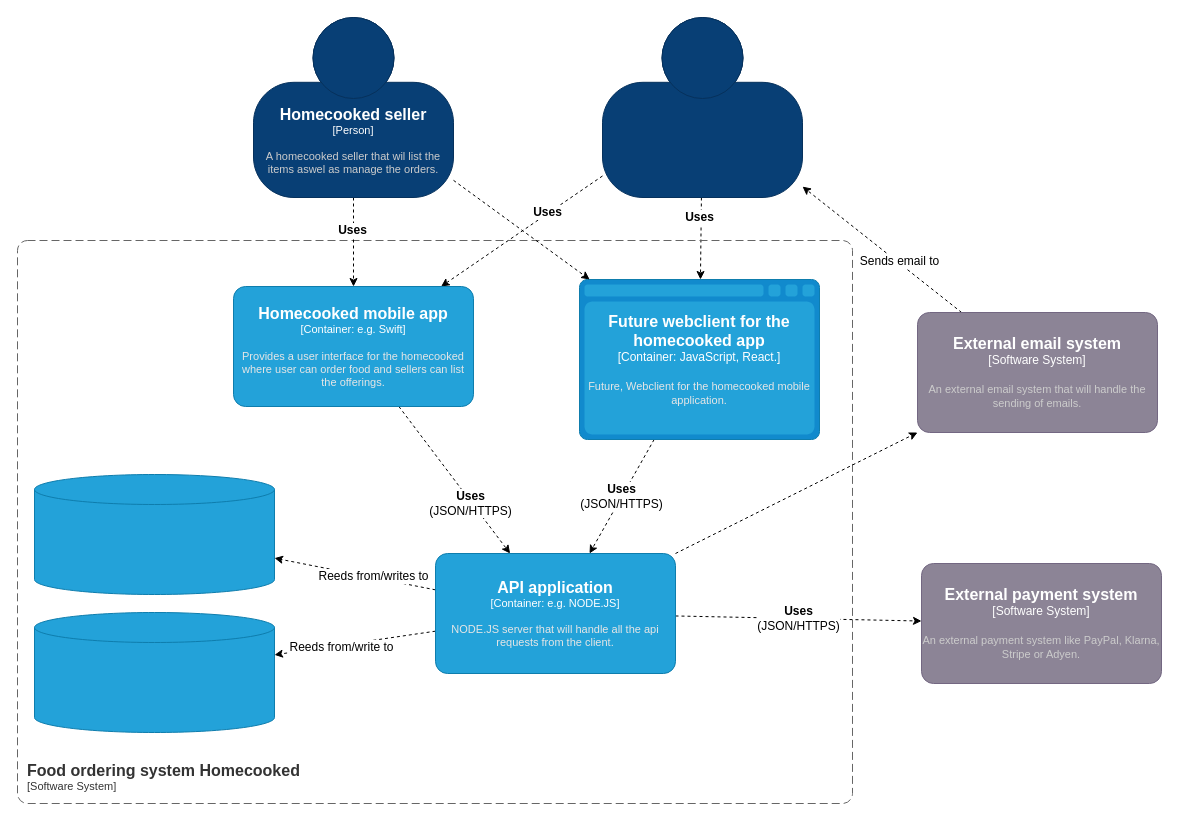
The diagram is 1179 pixels wide and 821 high, and some of its shapes have lost their labels. Each missing label, with the centre of its shape:
Database [Container: MongoDB] Stores product information liek pictures.: pixel 154 672
Database [Container: MySql] Stores user information.: pixel 154 534
Homecooked Customer [Person] Customers ordering food: pixel 702 107
